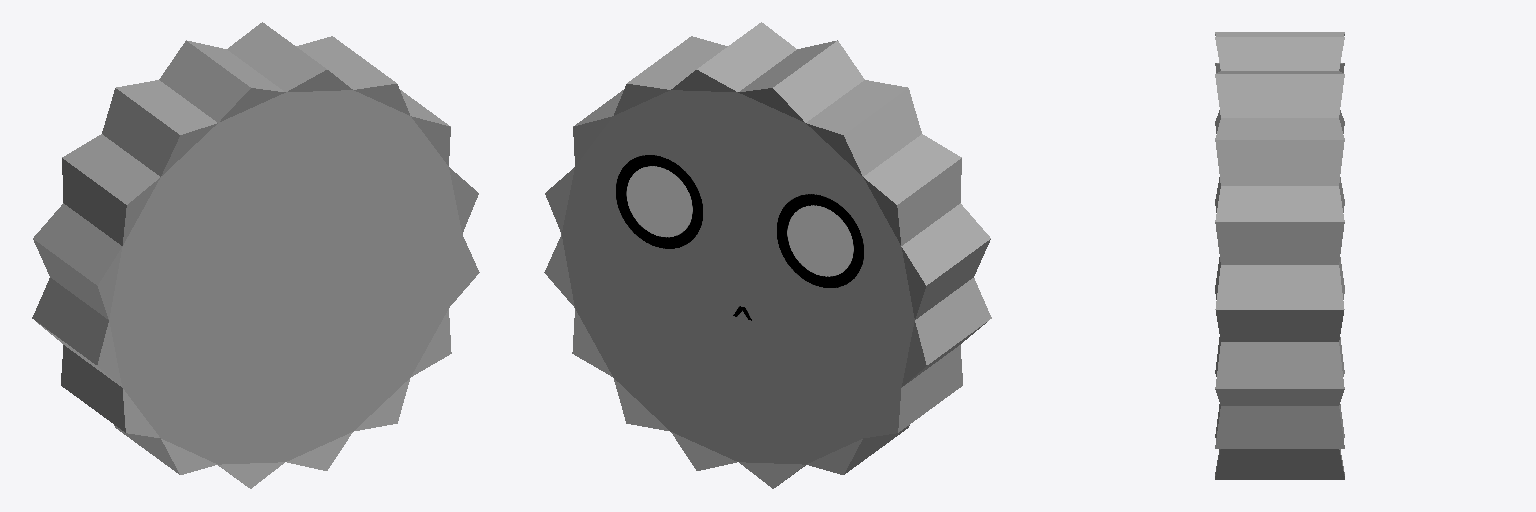
3 views of the same model, side by side, from view 1: azimuth 30°, elevation 25°; view 2: azimuth 150°, elevation 25°; view 3: azimuth 270°, elevation 25° (orthographic).
Visible parts, largest first — view 1: 円柱; view 2: 円柱; view 3: 円柱.
Boxes of the visible parts, x1,y1,x2,y2 form: 円柱: [32, 22, 479, 488]; 円柱: [544, 22, 991, 488]; 円柱: [1215, 32, 1344, 479].
Bounding box in the file's own units: 3.74 × 3.76 × 1.1.
1 materials, 1 textured.